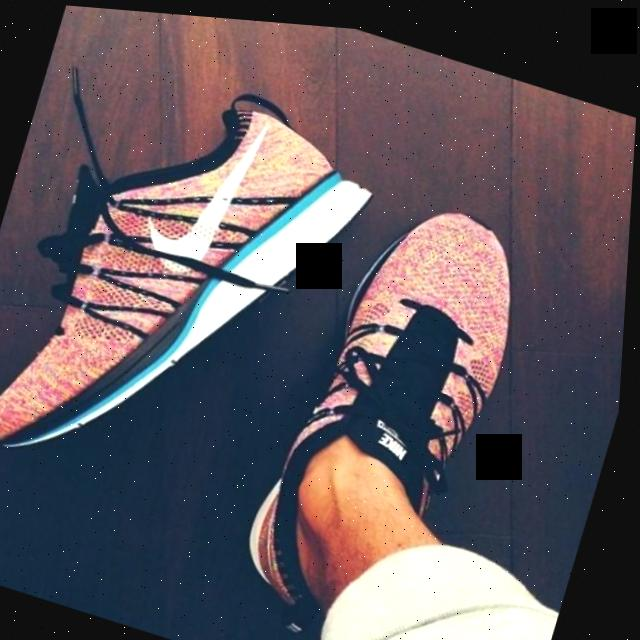shoes: (2, 44, 338, 517), (287, 169, 545, 509)
